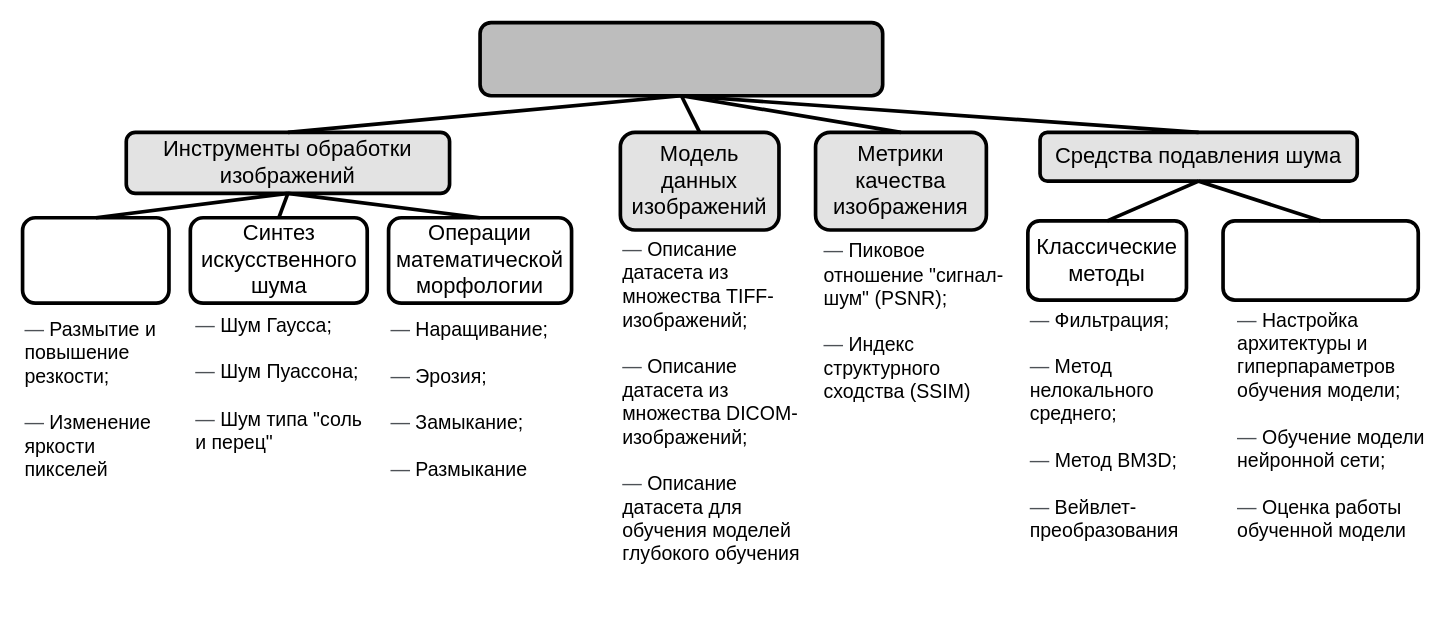
The diagram is 1452 pixels wide and 642 high, and some of its shapes have lost their labels. The box of each missing label's shape, as (x1, y1, x2, y2) in pixels:
Изменение свойств изображения: (20, 215, 170, 304)
Методы на основе нейронных сетей: (1221, 218, 1419, 301)
Модуль шумоподавления КТ-изображений: (478, 20, 884, 97)
